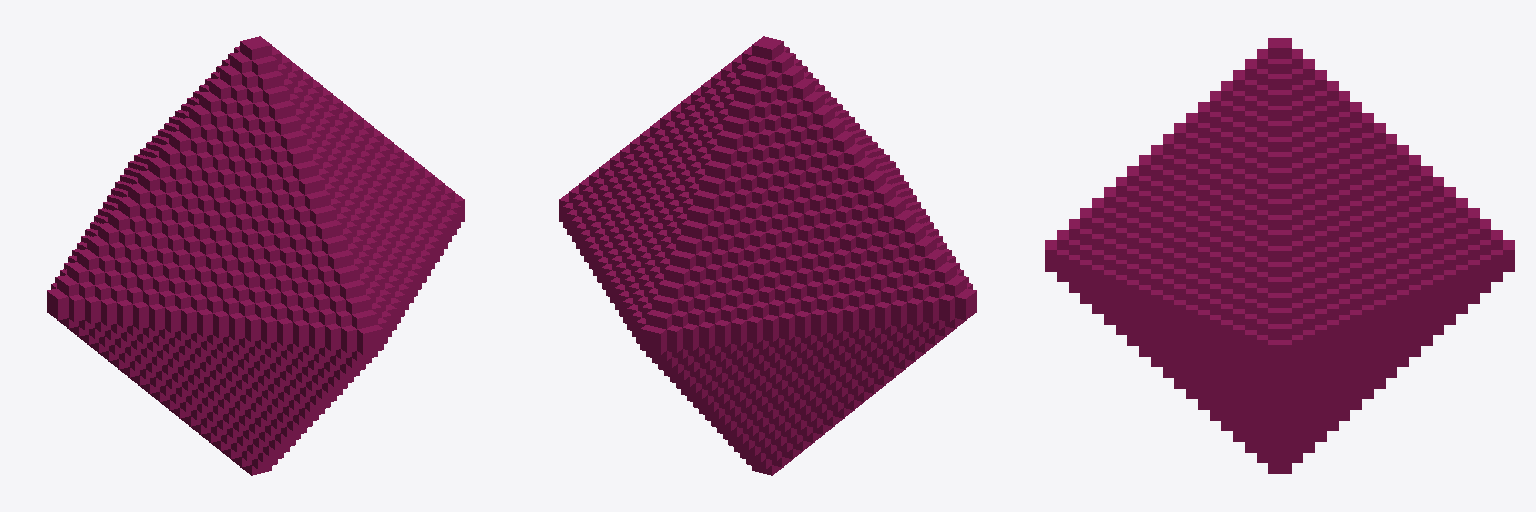
3 renders of one model, left to right at view 1: azimuth 30°, elevation 25°; view 2: azimuth 150°, elevation 25°; view 3: azimuth 270°, elevation 25°, orthographic.
Size of the model in its own units: 40 by 40 by 40.
1 materials, 1 textured.